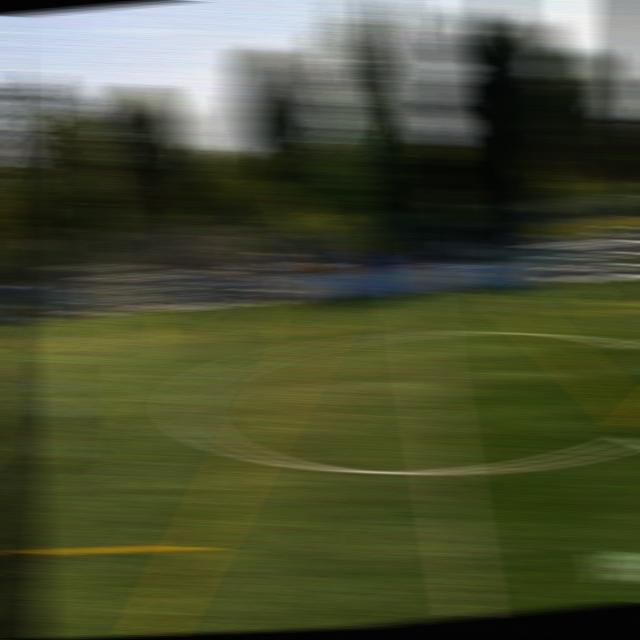halfcircle_bottom: (424, 454, 470, 490)
halfcircle_top: (406, 322, 443, 347)
midline_top_intersection: (399, 287, 433, 302)
